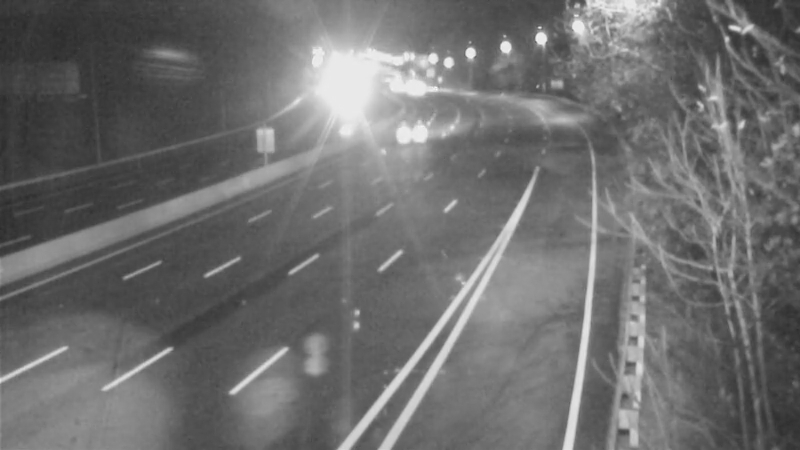vehicle: (407, 66, 457, 116), (393, 111, 443, 161)
